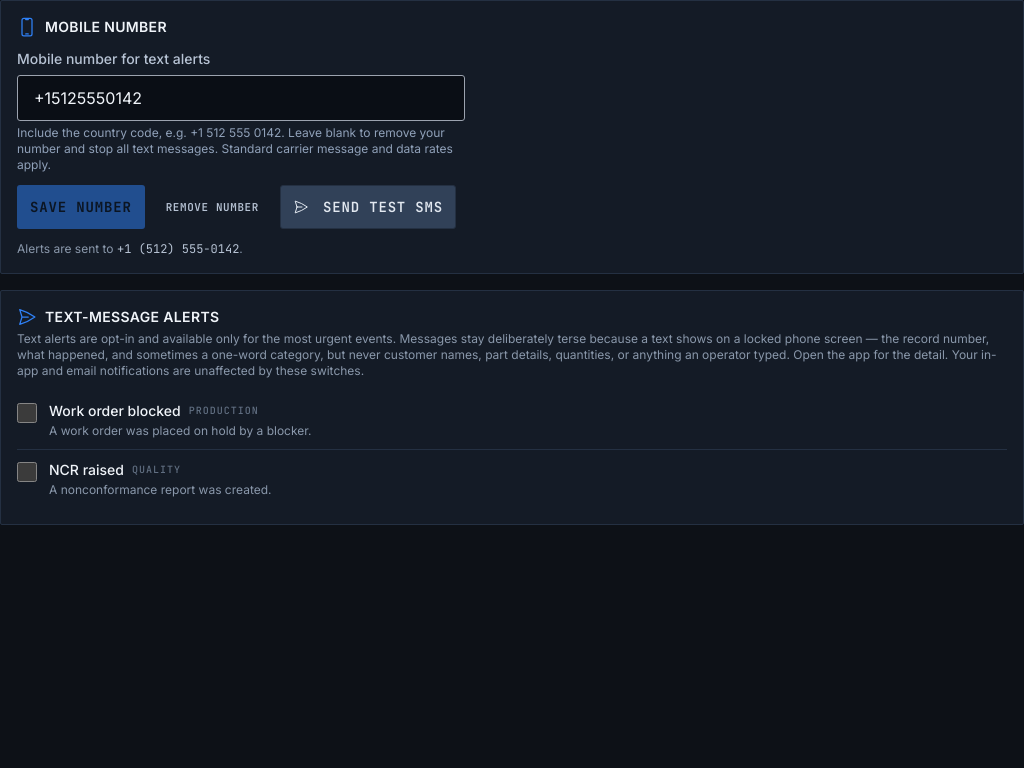
Test: SmsSettingsSection — opt-in toggles › rolls the checkbox back and shows the server detail when the save is rejected
Check: the text "Work order blocked production" is shown, box [49, 402, 259, 419]
Click the checkbox labelled "Work order blocked".
click(27, 413)  # box [17, 403, 37, 423]
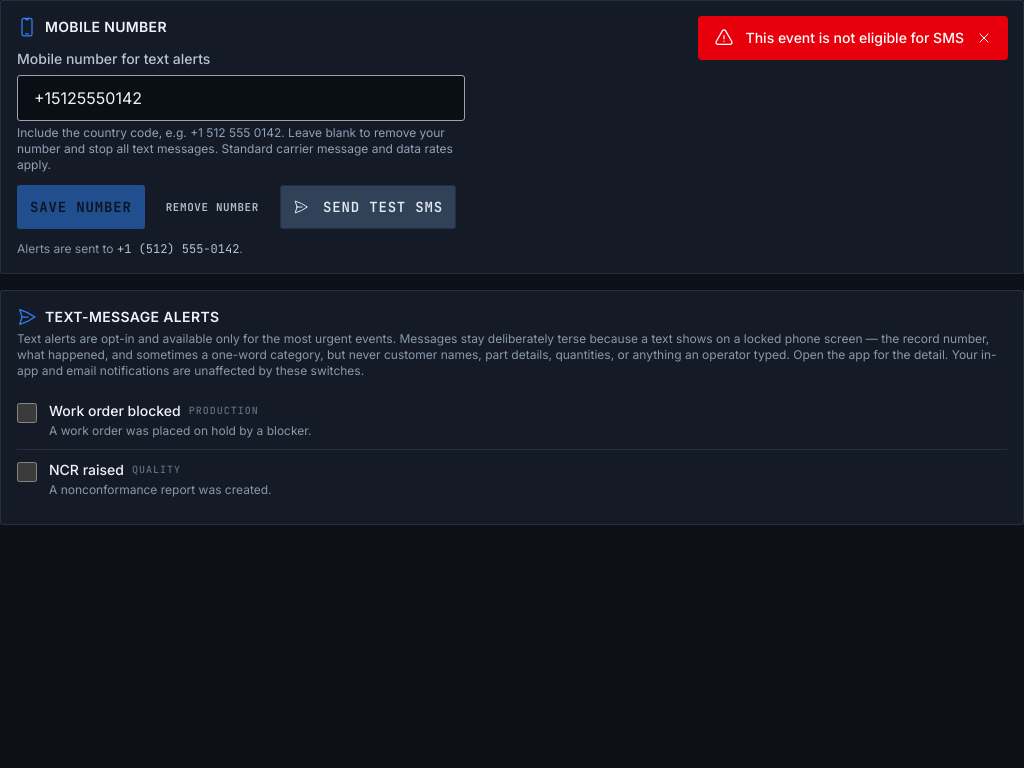
Check: the text "This event is not eligible for SMS" is shown, box [746, 28, 964, 48]
